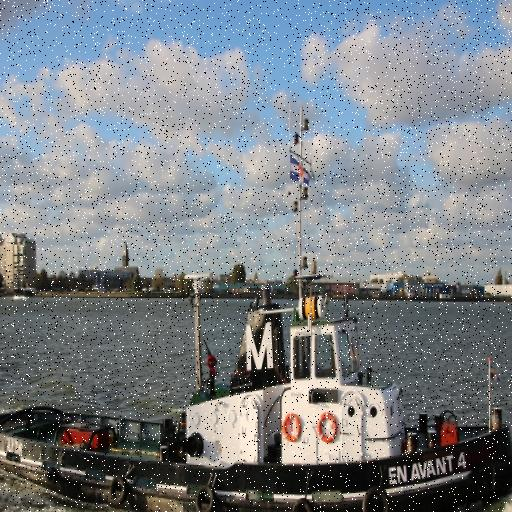tugboat: (1, 100, 512, 512)
